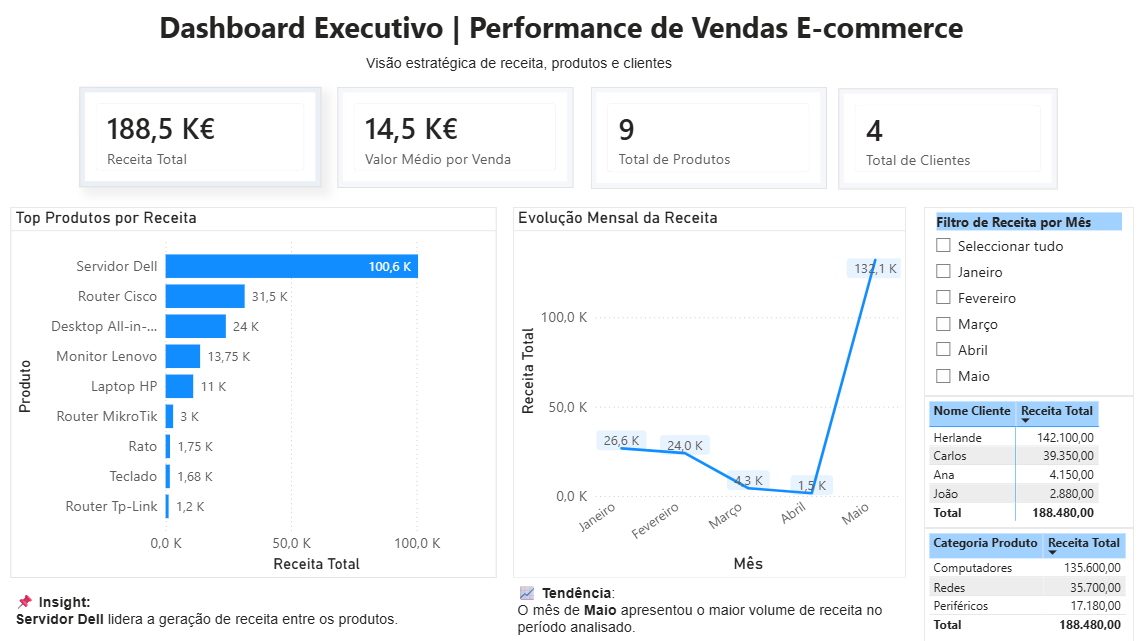

What the dashboard file says about the page in this screenshot:
{"tool":"powerbi","page":{"name":"dashboard_ecommerce","canvas":[1280,720],"ordinal":0},"visuals":[{"type":"lineChart","title":"Evolução Mensal da Receita","fields":{"Y":["Vendas .Receita Total"],"Category":["Data Venda.Mês"]},"box":[573.3,233.3,436.7,411.7],"z":0},{"type":"pivotTable","fields":{"Rows":["Clientes.Nome Cliente"],"Values":["Vendas .Receita Total"]},"box":[1030,443,233.3,146.7],"z":1000},{"type":"clusteredBarChart","title":"Top Produtos por Receita","fields":{"Category":["dim_produtos.nome"],"Y":["fato_vendas.Receita Total"]},"box":[15,233.3,540,411.7],"z":2000},{"type":"textbox","box":[175,5,968.3,53.3],"z":3000},{"type":"textbox","box":[405,58.3,470,38.3],"z":4000},{"type":"cardVisual","fields":{"Data":["fato_vendas.Receita Total"]},"box":[91.7,100,268.3,111],"z":5000},{"type":"textbox","box":[15,655,453.3,51.7],"z":6000},{"type":"slicer","fields":{"Values":["Data Venda.Mês"]},"box":[1030,233.3,233.3,210],"z":7000},{"type":"pivotTable","fields":{"Rows":["Produtos.Categoria Produto"],"Values":["Vendas .Receita Total"]},"box":[1030,590,233.3,128.3],"z":8000},{"type":"cardVisual","fields":{"Data":["Vendas .Ticket Médio"]},"box":[378.3,100,261.7,111.7],"z":9000},{"type":"cardVisual","fields":{"Data":["Vendas .Total Clientes"]},"box":[935,101.7,243.3,111.7],"z":10000},{"type":"cardVisual","fields":{"Data":["Vendas .Total Produtos"]},"box":[660,100,261.7,113.3],"z":11000},{"type":"textbox","box":[573.3,645,436.7,73.3],"z":12000}]}

Visuals, with their boxes in screenshot pixels (x1, y1, x2, y2), scaled from the page's 1280x720 canvas onto the 1145x641 screenshot:
"Evolução Mensal da Receita" lineChart: 513, 208, 903, 574
pivotTable - Clientes.Nome Cliente x Vendas .Receita Total: 921, 394, 1130, 525
"Top Produtos por Receita" clusteredBarChart: 13, 208, 496, 574
textbox: 157, 4, 1023, 52
textbox: 362, 52, 783, 86
cardVisual - fato_vendas.Receita Total: 82, 89, 322, 188
textbox: 13, 583, 419, 629
slicer - Data Venda.Mês: 921, 208, 1130, 395
pivotTable - Produtos.Categoria Produto x Vendas .Receita Total: 921, 525, 1130, 639
cardVisual - Vendas .Ticket Médio: 338, 89, 572, 188
cardVisual - Vendas .Total Clientes: 836, 91, 1054, 190
cardVisual - Vendas .Total Produtos: 590, 89, 824, 190
textbox: 513, 574, 903, 639
